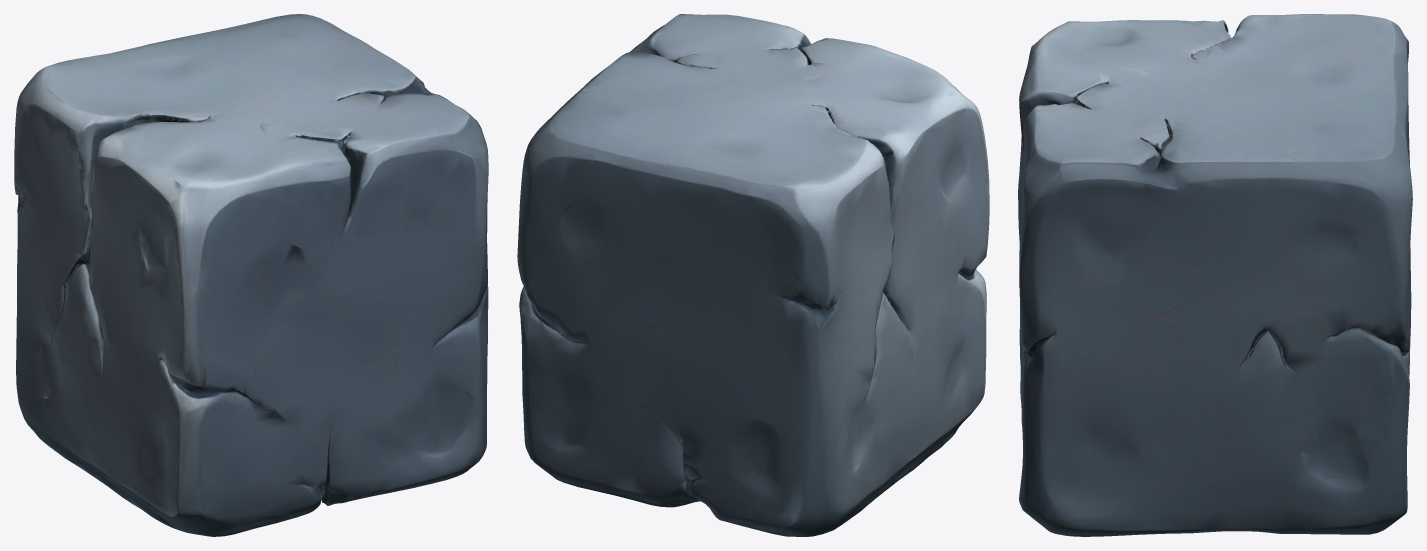
The model's file is kup_tas_parcali.glb.
The picture shows the model from 3 angles, left to right: view 1: azimuth 30°, elevation 25°; view 2: azimuth 150°, elevation 25°; view 3: azimuth 270°, elevation 25°; orthographic projection. The views are drawn at different scales.
Parts seen in each view (by area): view 1: p03, p09, p00, p10, p04, p06, p02, p11, p05, p07; view 2: p07, p05, p00, p04, p09, p03, p08, p11, p06, p02, p01, p10; view 3: p04, p08, p09, p00, p07, p03.
Part boxes in pixels (x1,y1,x2,y2): p03: (133, 174, 391, 475); p09: (204, 69, 483, 395); p00: (14, 56, 247, 261); p10: (111, 381, 482, 536); p04: (221, 14, 488, 390); p06: (68, 332, 177, 480); p02: (31, 206, 134, 347); p11: (16, 322, 112, 489); p05: (14, 179, 59, 377); p07: (95, 27, 230, 75); p07: (520, 122, 797, 397); p05: (602, 279, 875, 527); p00: (734, 65, 965, 299); p04: (517, 14, 724, 313); p09: (714, 14, 906, 126); p03: (905, 57, 989, 348); p08: (522, 388, 717, 518); p11: (737, 368, 909, 536); p06: (884, 298, 984, 463); p02: (844, 212, 936, 369); p01: (554, 340, 692, 420); p10: (903, 349, 986, 476); p04: (1019, 86, 1412, 452); p08: (1022, 434, 1407, 536); p09: (1019, 46, 1290, 443); p00: (1053, 14, 1408, 77); p07: (1287, 49, 1411, 448); p03: (1018, 25, 1059, 354).
Size of the model in its own units: 0.9008 by 0.9793 by 0.9111.
Materials: 2 (1 with a texture image).
